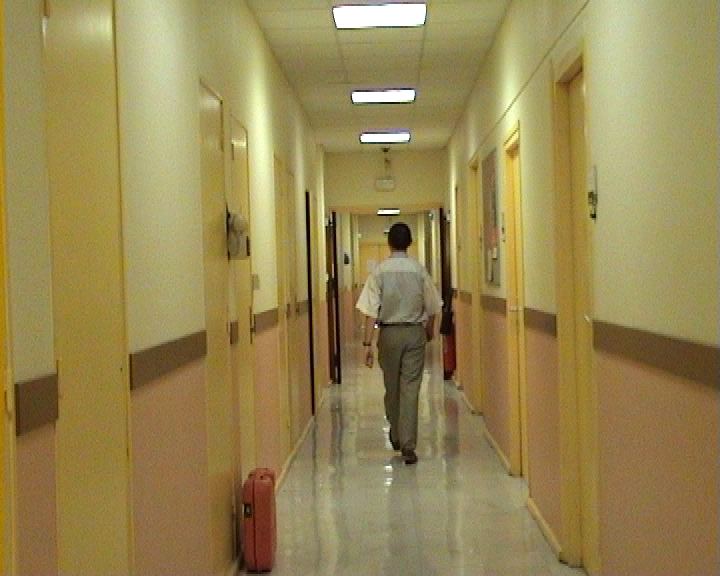leave bag unattended: (210, 446, 303, 576)
